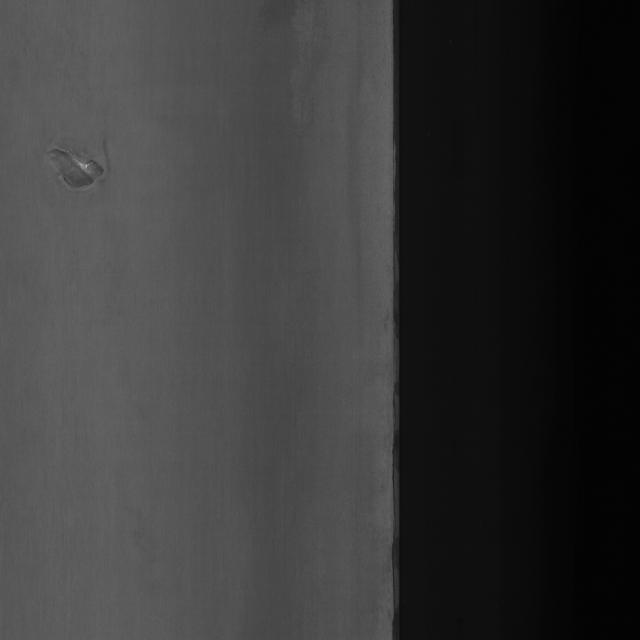waist folding: (41, 125, 124, 207)
